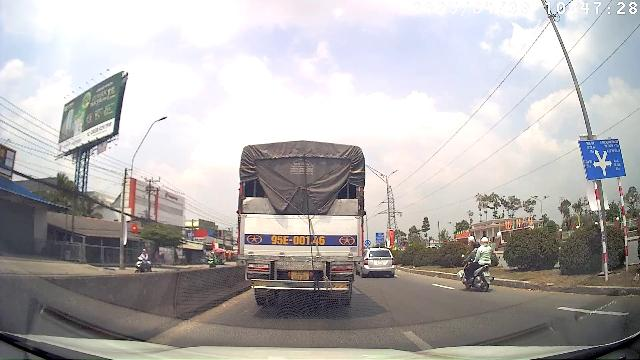303-noi-giao-nhau-chay-theo-vong-xuyen: (364, 240, 371, 246)
